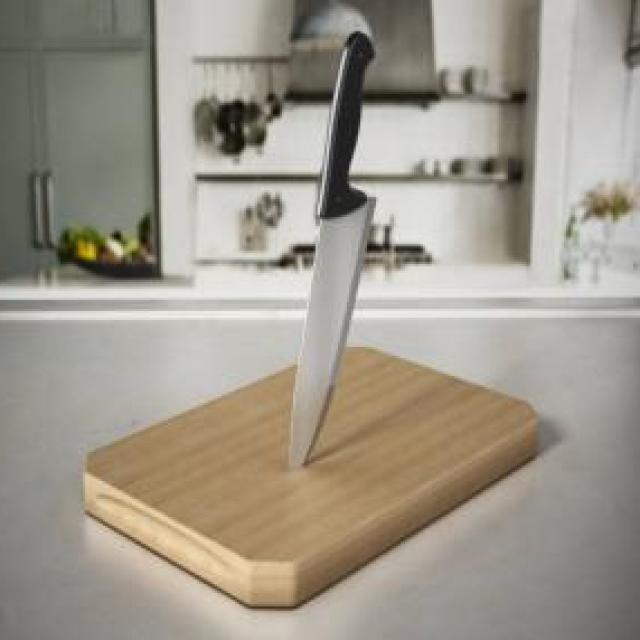knife: (284, 34, 378, 472)
